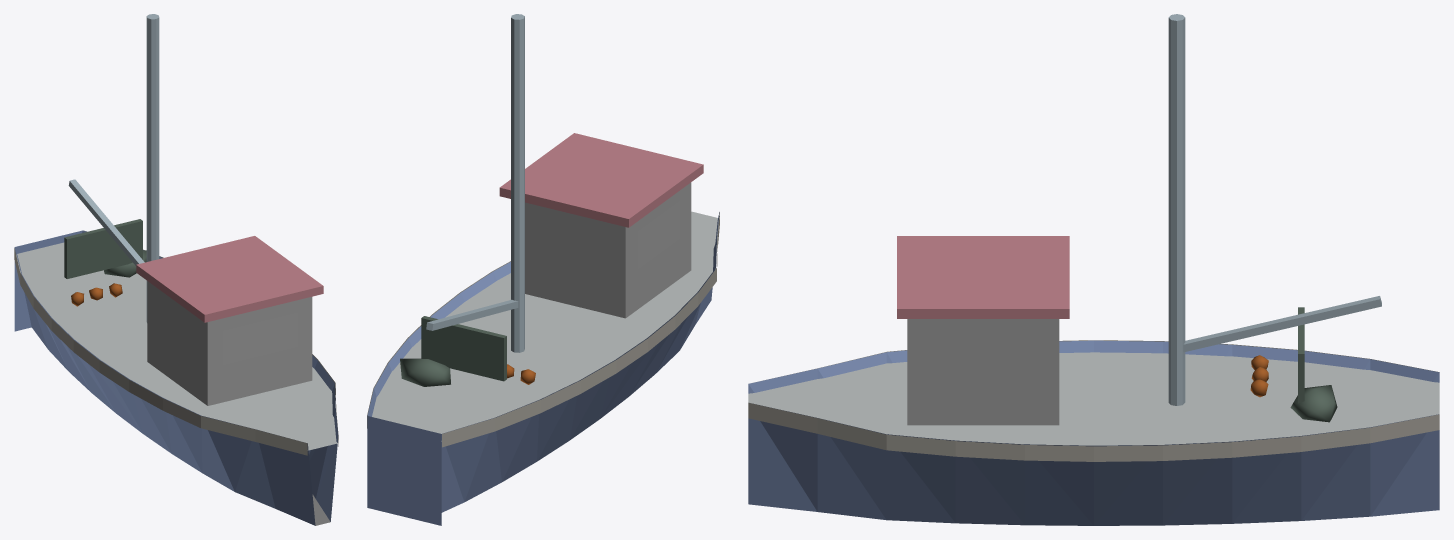
File: boat_cutter.glb
3 views of the same model, side by side, from view 1: azimuth 30°, elevation 25°; view 2: azimuth 150°, elevation 25°; view 3: azimuth 270°, elevation 25° (orthographic). The views are drawn at different scales.
Visible parts, largest first — view 1: boat_cutter; view 2: boat_cutter; view 3: boat_cutter.
Boxes of the visible parts, x1,y1,x2,y2 form: boat_cutter: (14, 14, 338, 525); boat_cutter: (367, 14, 719, 525); boat_cutter: (748, 14, 1439, 525).
Size of the model in its own units: 3.64 by 7.7 by 10.
